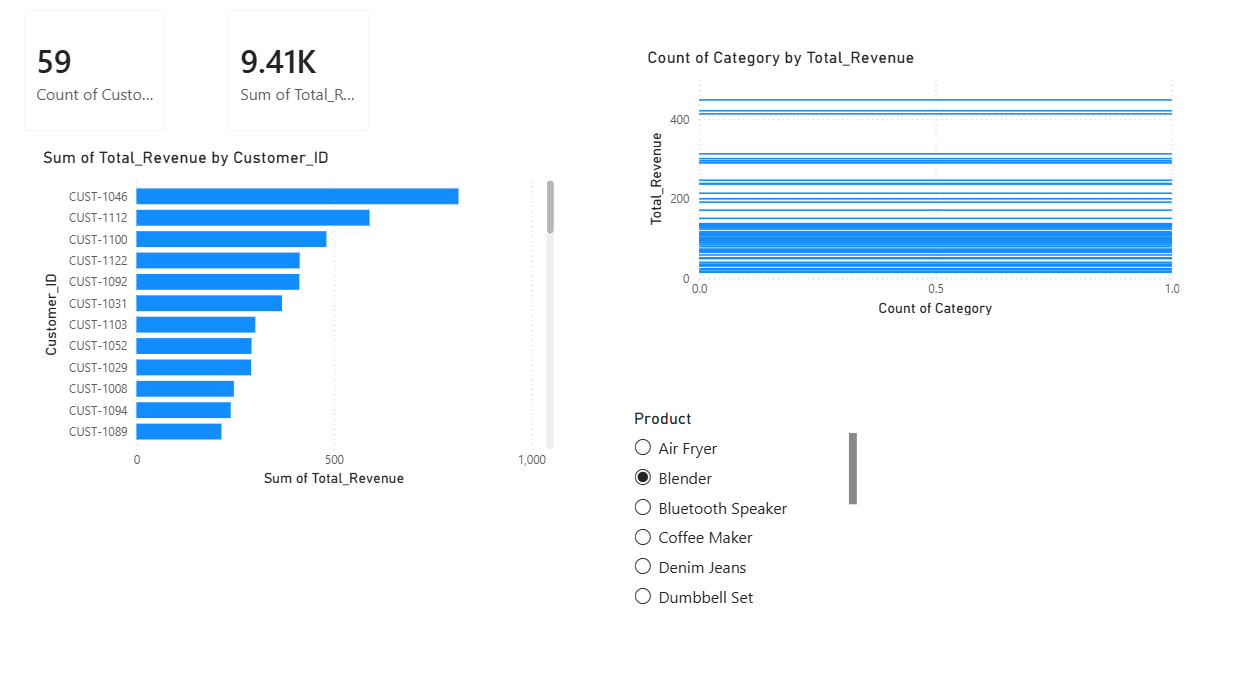

This screenshot's page, from the dashboard's own definition file:
{"tool":"powerbi","page":{"name":"Page 1","canvas":[1280,720],"ordinal":0},"visuals":[{"type":"cardVisual","fields":{"Data":["Count(ecommerce_customer_data.Customer_ID)"]},"box":[10.8,0,177.6,156.1],"z":0},{"type":"cardVisual","fields":{"Data":["Sum(ecommerce_customer_data.Total_Revenue)"]},"box":[217.1,0,177.6,156.1],"z":1},{"type":"clusteredBarChart","fields":{"Category":["ecommerce_customer_data.Customer_ID"],"Y":["Sum(ecommerce_customer_data.Total_Revenue)"]},"box":[43.1,156.1,525.8,346.3],"z":2},{"type":"clusteredBarChart","fields":{"Y":["CountNonNull(ecommerce_customer_data.Category)"],"Category":["ecommerce_customer_data.Total_Revenue"]},"box":[652.6,54.7,547,275.4],"z":3},{"type":"listSlicer","fields":{"Values":["ecommerce_customer_data.Product"]},"box":[639.4,418.7,235.8,209.4],"z":4}]}

Visuals, with their boxes in screenshot pixels (x1, y1, x2, y2), scaled from the page's 1280x720 canvas onto the 1258x690 screenshot:
cardVisual - Count(ecommerce_customer_data.Customer_ID): locate(11, 0, 185, 150)
cardVisual - Sum(ecommerce_customer_data.Total_Revenue): locate(213, 0, 388, 150)
clusteredBarChart - ecommerce_customer_data.Customer_ID x Sum(ecommerce_customer_data.Total_Revenue): locate(42, 150, 559, 481)
clusteredBarChart - CountNonNull(ecommerce_customer_data.Category) x ecommerce_customer_data.Total_Revenue: locate(641, 52, 1179, 316)
listSlicer - ecommerce_customer_data.Product: locate(628, 401, 860, 602)
